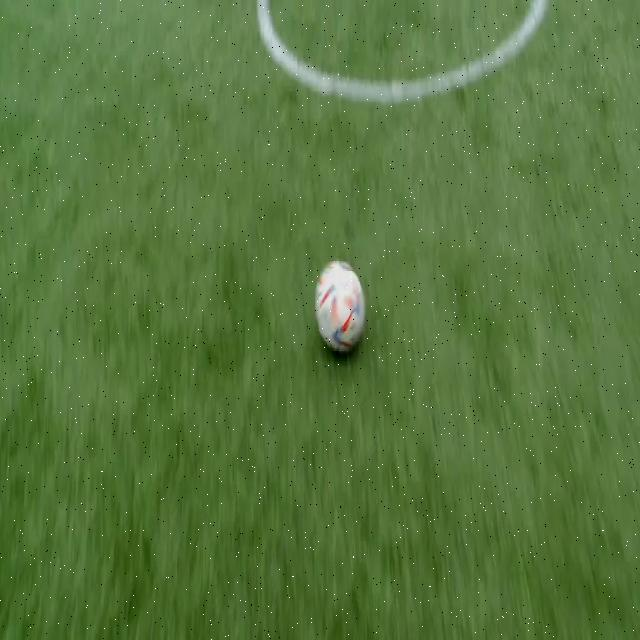ball: (316, 260, 364, 353)
